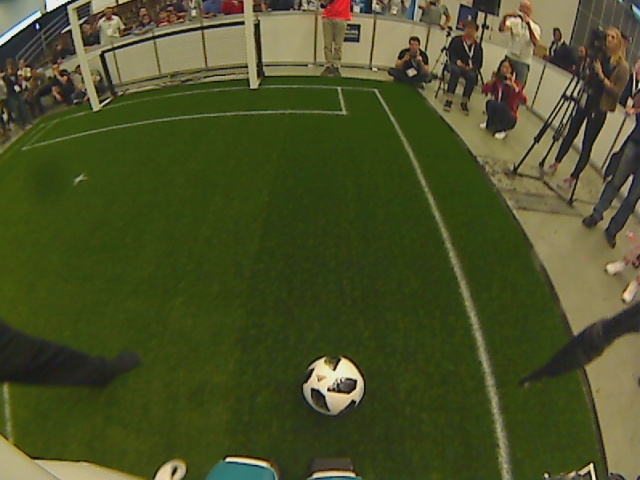ball: (300, 353, 367, 419)
